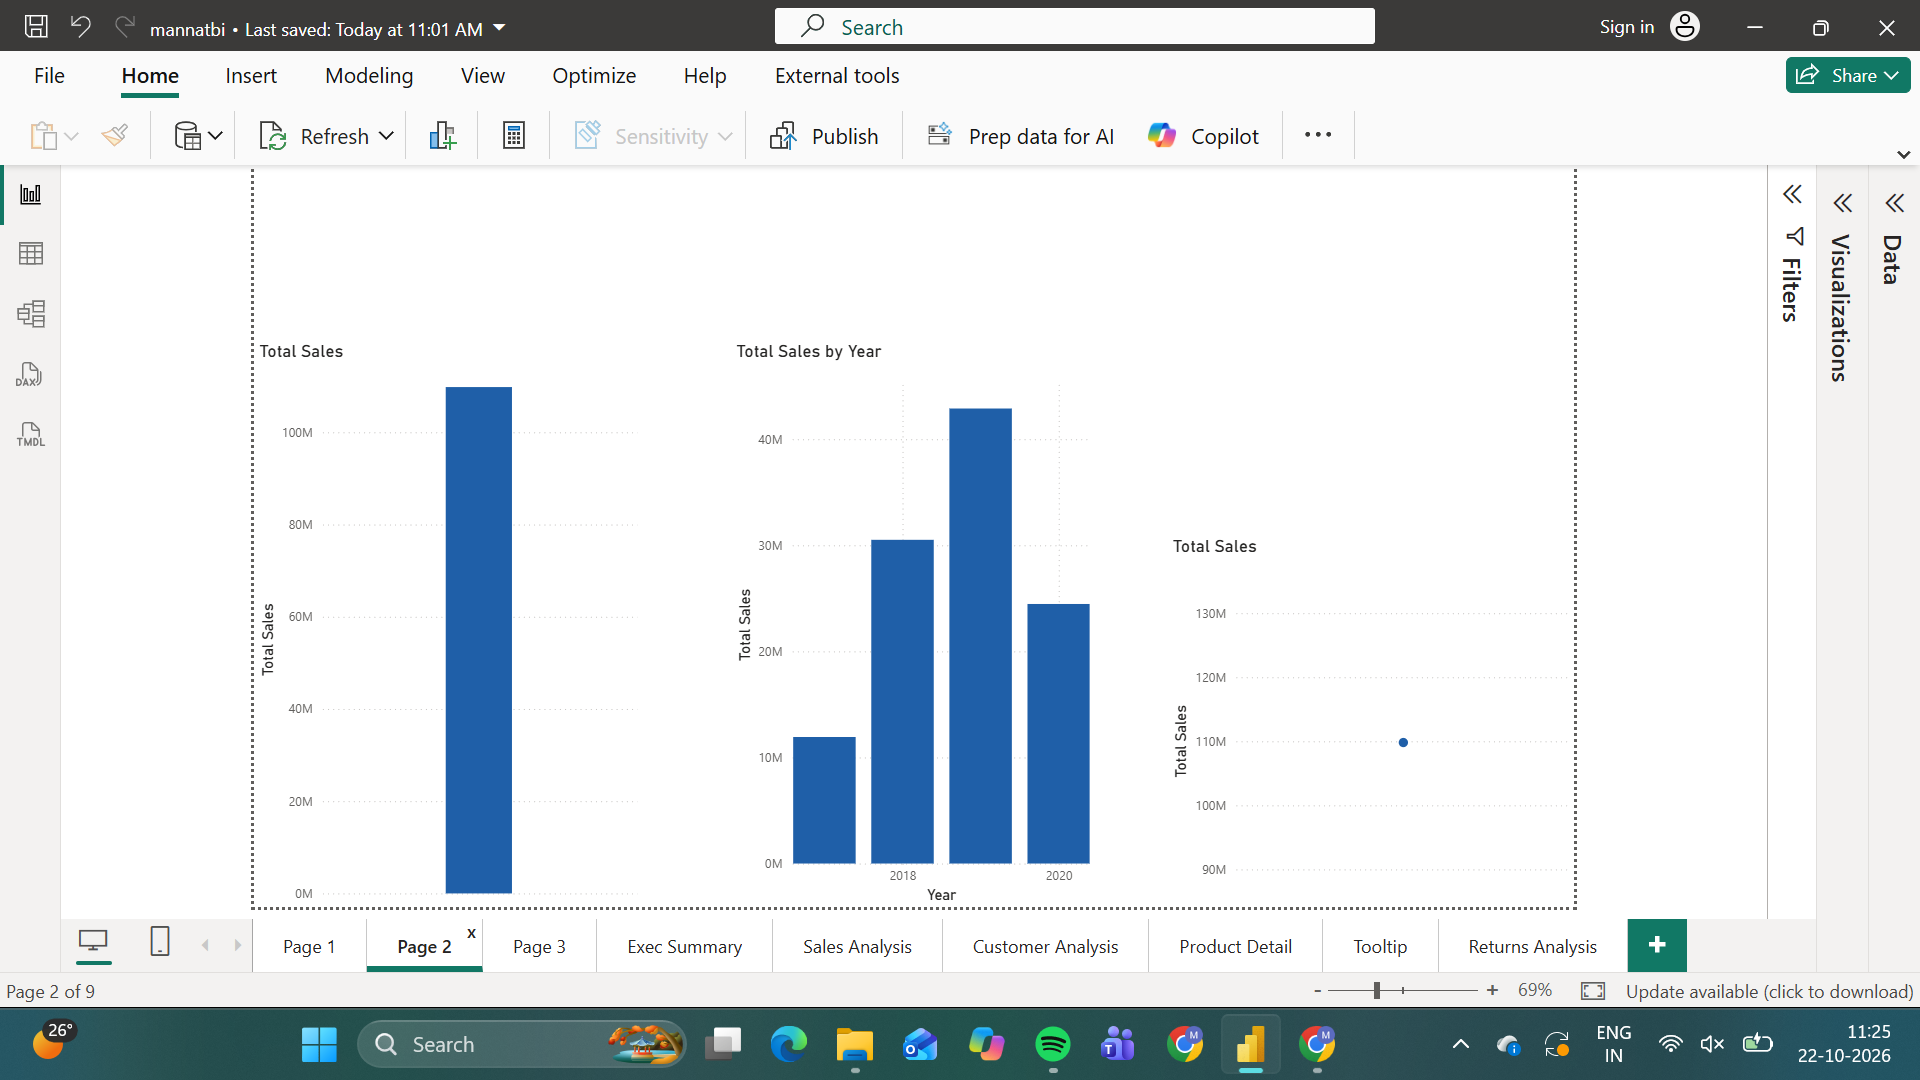

This screenshot's page, from the dashboard's own definition file:
{"tool":"powerbi","page":{"name":"Page 2","canvas":[1280,720],"ordinal":1},"visuals":[{"type":"clusteredColumnChart","fields":{"Y":["Sum(Sales.Sales Amount)"]},"box":[0,3.8,546.1,549.9],"z":0},{"type":"lineChart","fields":{"Y":["Sum(Sales.Sales Amount)"]},"box":[829.6,0,449.8,359.1],"z":1000},{"type":"slicer","box":[733.2,359.1,546.1,360.9],"z":2000}]}

Visuals, with their boxes on the page's 1280x720 design canvas (x1, y1, x2, y2). These are canvas units, not pixel positions in the 1920x1080 screenshot, which may show the page scaled, cropped or inside an application window:
clusteredColumnChart - Sum(Sales.Sales Amount): bbox=(0, 4, 546, 554)
lineChart - Sum(Sales.Sales Amount): bbox=(830, 0, 1279, 359)
slicer: bbox=(733, 359, 1279, 720)
